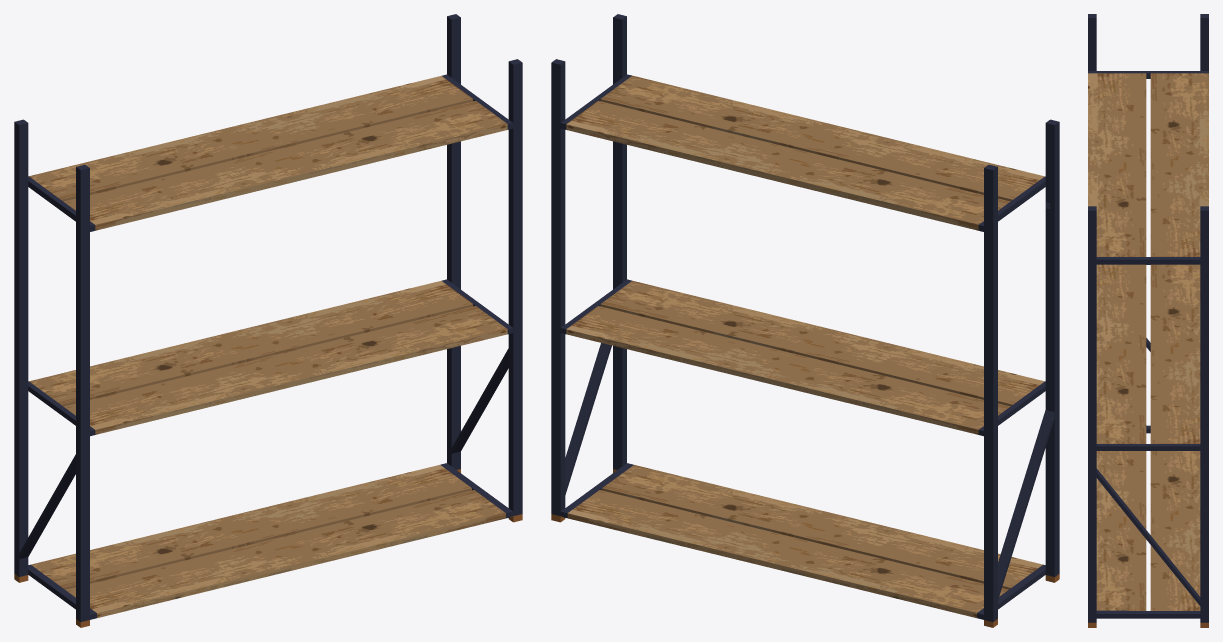
The picture shows the model from 3 angles, left to right: view 1: azimuth 30°, elevation 25°; view 2: azimuth 150°, elevation 25°; view 3: azimuth 270°, elevation 25°; orthographic projection. The views are drawn at different scales.
Visible parts, largest first — view 1: pCube428; view 2: pCube428; view 3: pCube428.
Boxes of the visible parts, x1,y1,x2,y2 form: pCube428: (14, 14, 522, 627); pCube428: (551, 14, 1059, 627); pCube428: (1088, 14, 1208, 627).
Bounding box in the file's own units: 538 × 532 × 140.
1 material, 1 textured.
